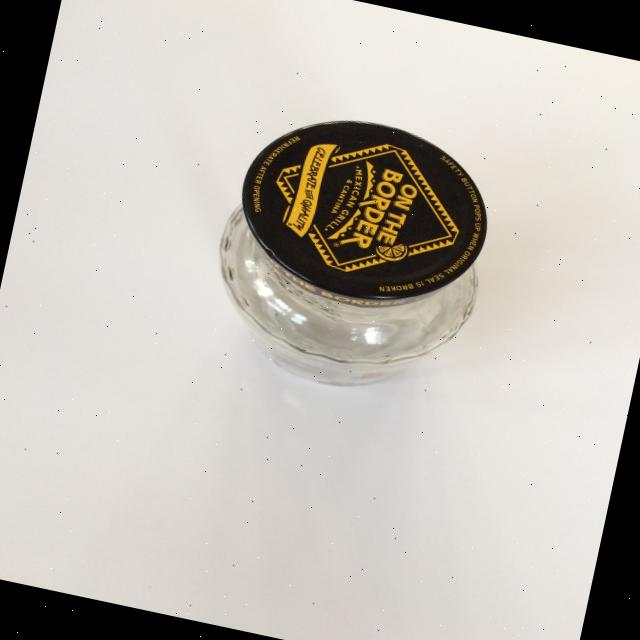glass: (193, 95, 508, 411)
